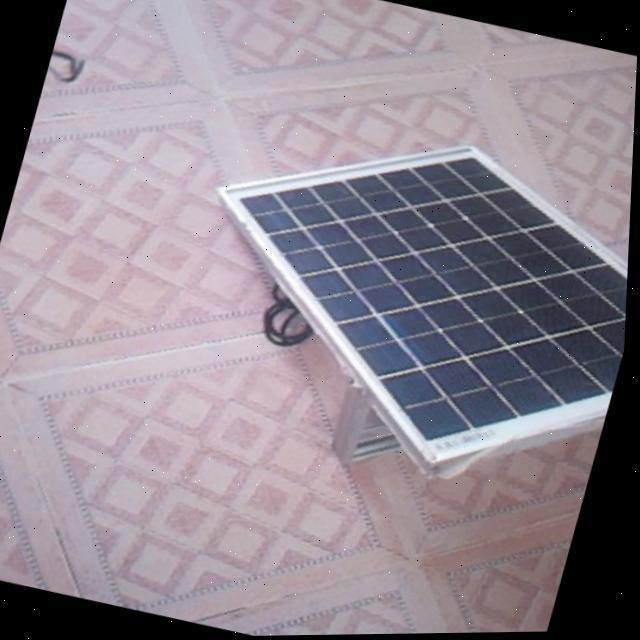Normal Solar Panel: (154, 92, 637, 513)
